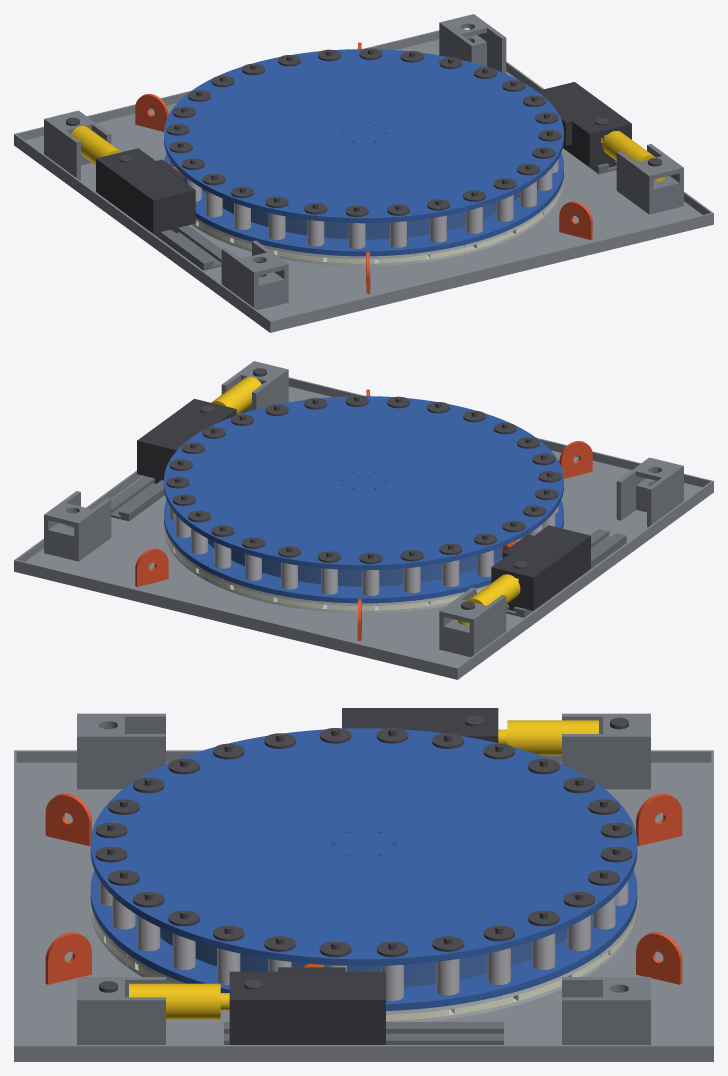
3 views of the same model, one above another, from view 1: azimuth 30°, elevation 25°; view 2: azimuth 150°, elevation 25°; view 3: azimuth 270°, elevation 25° (orthographic). The views are drawn at different scales.
Visible parts, largest first — view 1: TT300C-MES-001-C Plancha superior de la mesa, TT300C-BAS-001-C Plancha base, TT300C-MES-002-C Anillo superior de pasadores, TT300C-ACC-003-C PatÃn guiado, TT300C-BAS-005-C Mejilla de mÃ©nsula, TT300C-MES-013-C Perno ISO 4762 M20Ã45 con arandela, TT300C-BAS-003-C Marco perimetral largo, TT300C-MES-004-C Anillo inferior de pasadores, TT300C-MES-012-C Pasador de empuje, TT300C-BAS-004-C Marco perimetral corto, TT300C-MES-007-C Alma anular R840, TT300C-IZA-001-C Oreja de izaje (+8 smaller); view 2: TT300C-MES-001-C Plancha superior de la mesa, TT300C-BAS-001-C Plancha base, TT300C-MES-002-C Anillo superior de pasadores, TT300C-ACC-003-C PatÃn guiado, TT300C-BAS-005-C Mejilla de mÃ©nsula, TT300C-MES-013-C Perno ISO 4762 M20Ã45 con arandela, TT300C-BAS-003-C Marco perimetral largo, TT300C-MES-004-C Anillo inferior de pasadores, TT300C-MES-012-C Pasador de empuje, TT300C-BAS-004-C Marco perimetral corto, TT300C-ACC-001-C Bancada de guÃa con ranura T, TT300C-MES-007-C Alma anular R840 (+8 smaller); view 3: TT300C-MES-001-C Plancha superior de la mesa, TT300C-BAS-001-C Plancha base, TT300C-BAS-005-C Mejilla de mÃ©nsula, TT300C-MES-002-C Anillo superior de pasadores, TT300C-ACC-003-C PatÃn guiado, TT300C-MES-013-C Perno ISO 4762 M20Ã45 con arandela, TT300C-BAS-004-C Marco perimetral corto, TT300C-MES-004-C Anillo inferior de pasadores, TT300C-MES-012-C Pasador de empuje, TT300C-IZA-001-C Oreja de izaje, TT300C-ACC-002-C Cilindro hidrÃ¡ulico doble efecto, TT300C-MES-007-C Alma anular R840 (+7 smaller).
Boxes of the visible parts, left/top/right/bottom form: TT300C-MES-001-C Plancha superior de la mesa: left=192, top=61, right=535, bottom=206; TT300C-BAS-001-C Plancha base: left=14, top=39, right=713, bottom=332; TT300C-MES-002-C Anillo superior de pasadores: left=164, top=49, right=563, bottom=223; TT300C-ACC-003-C PatÃn guiado: left=96, top=82, right=631, bottom=233; TT300C-BAS-005-C Mejilla de mÃ©nsula: left=44, top=14, right=683, bottom=310; TT300C-MES-013-C Perno ISO 4762 M20Ã45 con arandela: left=166, top=48, right=561, bottom=217; TT300C-BAS-003-C Marco perimetral largo: left=14, top=30, right=713, bottom=329; TT300C-MES-004-C Anillo inferior de pasadores: left=164, top=153, right=563, bottom=256; TT300C-MES-012-C Pasador de empuje: left=169, top=159, right=558, bottom=248; TT300C-BAS-004-C Marco perimetral corto: left=15, top=61, right=712, bottom=328; TT300C-MES-007-C Alma anular R840: left=202, top=188, right=519, bottom=239; TT300C-IZA-001-C Oreja de izaje: left=135, top=42, right=592, bottom=293; TT300C-MES-001-C Plancha superior de la mesa: left=192, top=408, right=535, bottom=553; TT300C-BAS-001-C Plancha base: left=14, top=386, right=713, bottom=679; TT300C-MES-002-C Anillo superior de pasadores: left=164, top=396, right=563, bottom=570; TT300C-ACC-003-C PatÃn guiado: left=137, top=399, right=590, bottom=610; TT300C-BAS-005-C Mejilla de mÃ©nsula: left=44, top=361, right=683, bottom=657; TT300C-MES-013-C Perno ISO 4762 M20Ã45 con arandela: left=166, top=395, right=561, bottom=564; TT300C-BAS-003-C Marco perimetral largo: left=14, top=377, right=713, bottom=676; TT300C-MES-004-C Anillo inferior de pasadores: left=164, top=500, right=563, bottom=603; TT300C-MES-012-C Pasador de empuje: left=169, top=506, right=558, bottom=595; TT300C-BAS-004-C Marco perimetral corto: left=15, top=470, right=712, bottom=675; TT300C-ACC-001-C Bancada de guÃa con ranura T: left=111, top=476, right=626, bottom=617; TT300C-MES-007-C Alma anular R840: left=208, top=535, right=525, bottom=586; TT300C-MES-001-C Plancha superior de la mesa: left=129, top=744, right=598, bottom=943; TT300C-BAS-001-C Plancha base: left=14, top=762, right=713, bottom=1061; TT300C-BAS-005-C Mejilla de mÃ©nsula: left=77, top=713, right=650, bottom=1044; TT300C-MES-002-C Anillo superior de pasadores: left=90, top=728, right=637, bottom=965; TT300C-ACC-003-C PatÃn guiado: left=229, top=708, right=498, bottom=1044; TT300C-MES-013-C Perno ISO 4762 M20Ã45 con arandela: left=95, top=728, right=632, bottom=957; TT300C-BAS-004-C Marco perimetral corto: left=16, top=750, right=711, bottom=1057; TT300C-MES-004-C Anillo inferior de pasadores: left=90, top=870, right=637, bottom=1010; TT300C-MES-012-C Pasador de empuje: left=99, top=880, right=628, bottom=1000; TT300C-IZA-001-C Oreja de izaje: left=45, top=793, right=682, bottom=984; TT300C-ACC-002-C Cilindro hidrÃ¡ulico doble efecto: left=129, top=720, right=598, bottom=1019; TT300C-MES-007-C Alma anular R840: left=160, top=928, right=567, bottom=986.
Bounding box in the file's own units: 2560 × 313 × 2560.
